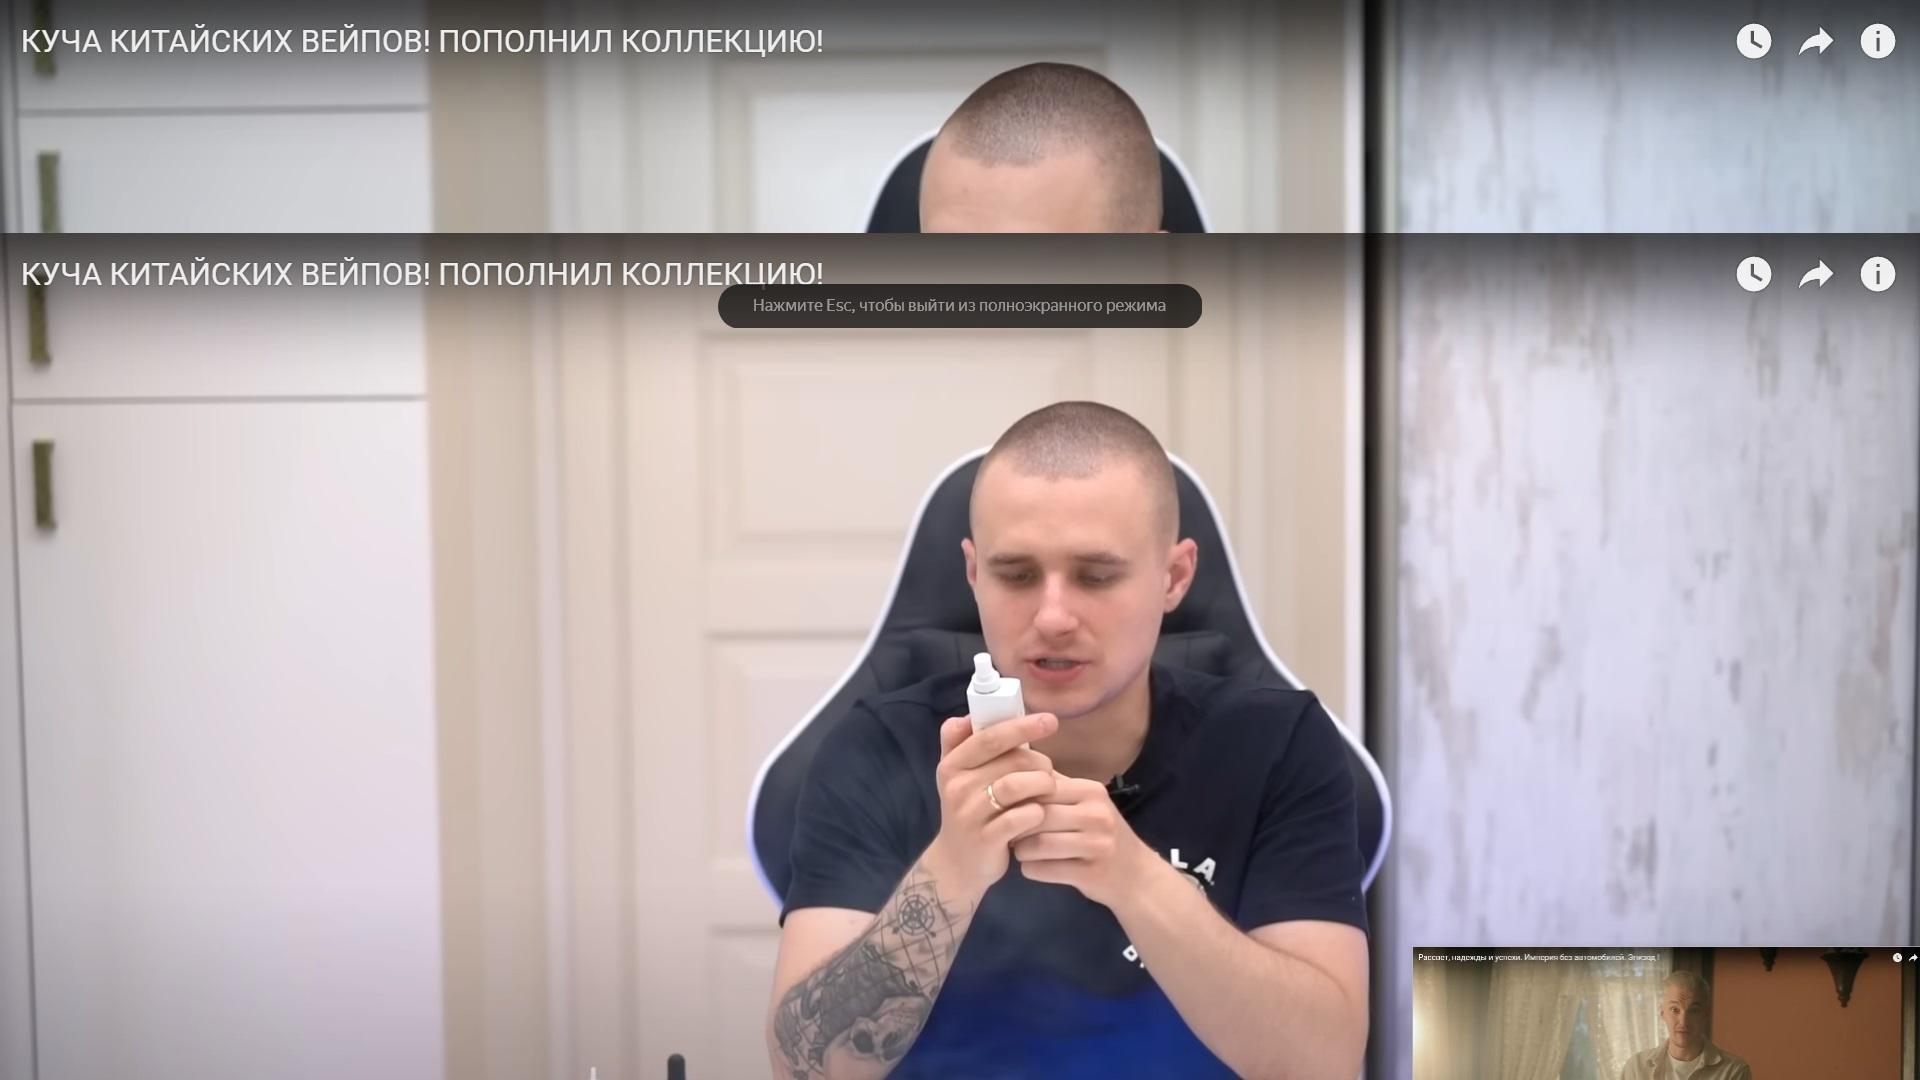Vape: (967, 651, 1026, 731)
